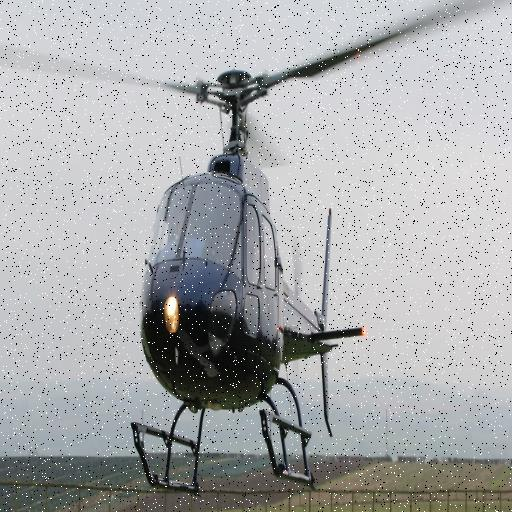helicopter: (64, 1, 512, 512)
